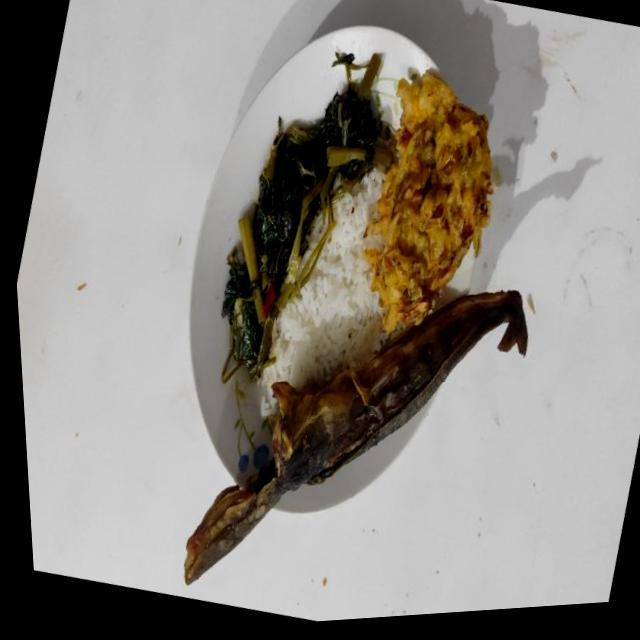nasi_putih: (256, 165, 388, 417)
tumis_kangkung: (220, 51, 392, 382)
